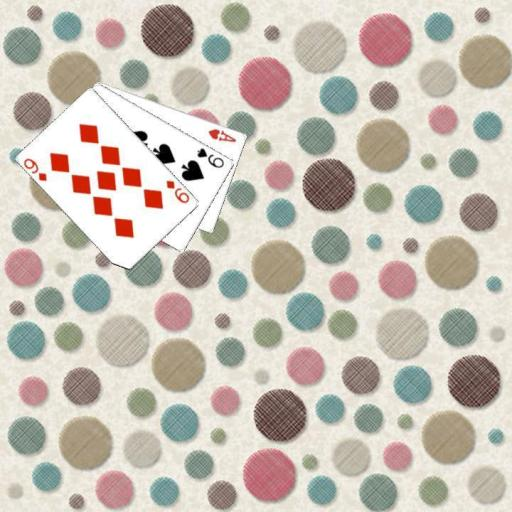card-corner: (194, 144, 226, 170), (164, 177, 191, 205), (21, 155, 48, 183), (205, 125, 237, 144)
